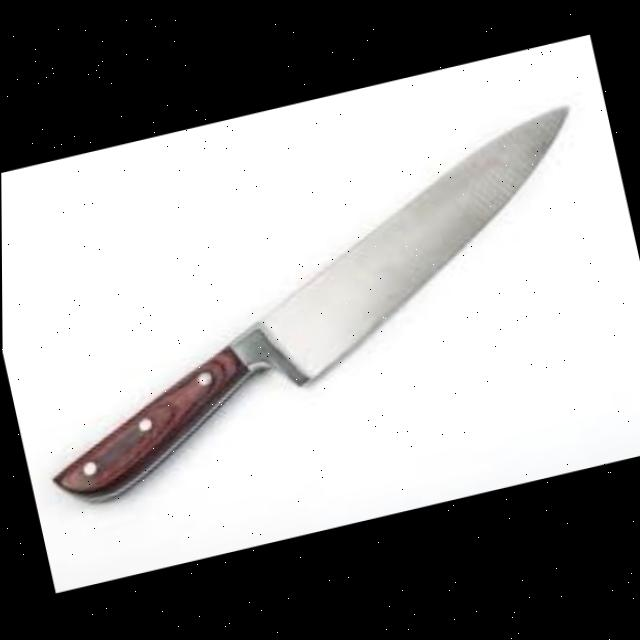Knife: (1, 100, 628, 510)
